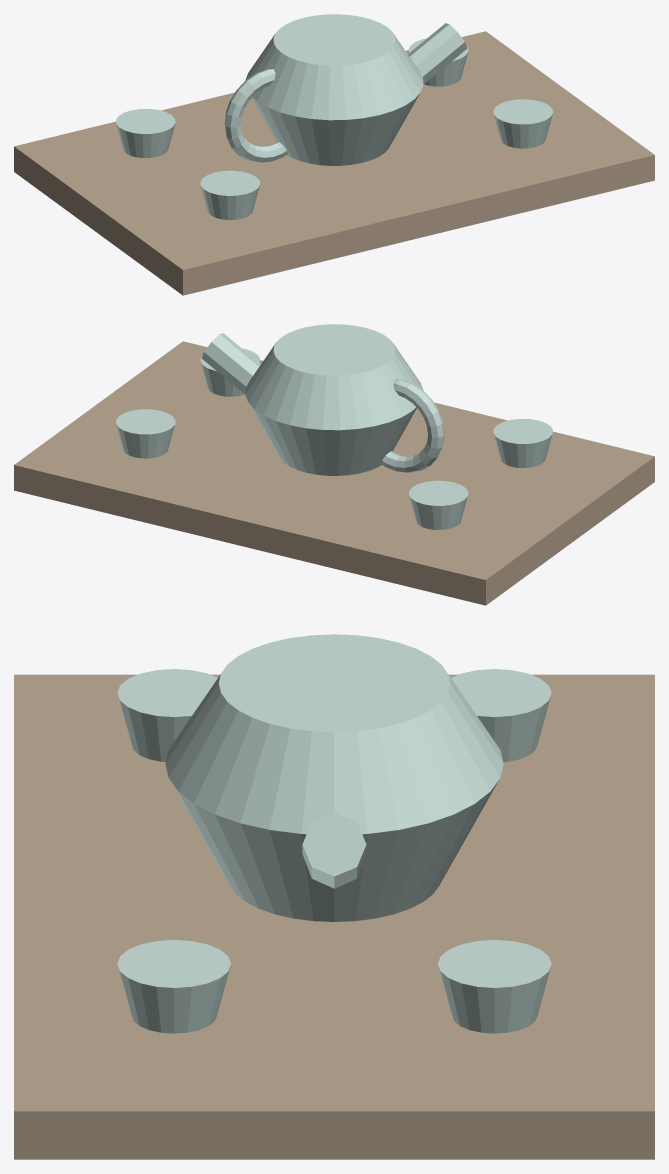
Rendered from prop_celadon_tea_set.glb.
The picture shows the model from 3 angles, top to bottom: view 1: azimuth 30°, elevation 25°; view 2: azimuth 150°, elevation 25°; view 3: azimuth 270°, elevation 25°; orthographic projection. The views are drawn at different scales.
Visible parts, largest first — view 1: prop_celadon_tea_set/tea_tray_base_00000, prop_celadon_tea_set/celadon_teapot_body_00001, prop_celadon_tea_set/celadon_cup_00005, prop_celadon_tea_set/celadon_cup_00004, prop_celadon_tea_set/celadon_cup_00006, prop_celadon_tea_set/celadon_teapot_handle_00003, prop_celadon_tea_set/celadon_teapot_spout_00002, prop_celadon_tea_set/celadon_cup_00007; view 2: prop_celadon_tea_set/tea_tray_base_00000, prop_celadon_tea_set/celadon_teapot_body_00001, prop_celadon_tea_set/celadon_cup_00007, prop_celadon_tea_set/celadon_cup_00006, prop_celadon_tea_set/celadon_cup_00004, prop_celadon_tea_set/celadon_teapot_handle_00003, prop_celadon_tea_set/celadon_teapot_spout_00002, prop_celadon_tea_set/celadon_cup_00005; view 3: prop_celadon_tea_set/tea_tray_base_00000, prop_celadon_tea_set/celadon_teapot_body_00001, prop_celadon_tea_set/celadon_cup_00005, prop_celadon_tea_set/celadon_cup_00007, prop_celadon_tea_set/celadon_cup_00004, prop_celadon_tea_set/celadon_cup_00006, prop_celadon_tea_set/celadon_teapot_spout_00002.
Boxes of the visible parts, <box> form: prop_celadon_tea_set/tea_tray_base_00000: <box>14,31,654,295</box>; prop_celadon_tea_set/celadon_teapot_body_00001: <box>245,14,423,165</box>; prop_celadon_tea_set/celadon_cup_00005: <box>493,99,552,148</box>; prop_celadon_tea_set/celadon_cup_00004: <box>200,170,260,219</box>; prop_celadon_tea_set/celadon_cup_00006: <box>116,108,175,157</box>; prop_celadon_tea_set/celadon_teapot_handle_00003: <box>224,69,287,162</box>; prop_celadon_tea_set/celadon_teapot_spout_00002: <box>408,23,467,84</box>; prop_celadon_tea_set/celadon_cup_00007: <box>409,38,468,86</box>; prop_celadon_tea_set/tea_tray_base_00000: <box>14,341,654,605</box>; prop_celadon_tea_set/celadon_teapot_body_00001: <box>245,324,423,475</box>; prop_celadon_tea_set/celadon_cup_00007: <box>116,409,175,458</box>; prop_celadon_tea_set/celadon_cup_00006: <box>408,480,468,529</box>; prop_celadon_tea_set/celadon_cup_00004: <box>493,418,552,467</box>; prop_celadon_tea_set/celadon_teapot_handle_00003: <box>381,379,444,472</box>; prop_celadon_tea_set/celadon_teapot_spout_00002: <box>201,333,260,394</box>; prop_celadon_tea_set/celadon_cup_00005: <box>200,348,259,396</box>; prop_celadon_tea_set/tea_tray_base_00000: <box>14,674,654,1159</box>; prop_celadon_tea_set/celadon_teapot_body_00001: <box>165,634,503,921</box>; prop_celadon_tea_set/celadon_cup_00005: <box>117,940,230,1033</box>; prop_celadon_tea_set/celadon_cup_00007: <box>438,940,551,1033</box>; prop_celadon_tea_set/celadon_cup_00004: <box>117,669,217,761</box>; prop_celadon_tea_set/celadon_cup_00006: <box>451,669,551,761</box>; prop_celadon_tea_set/celadon_teapot_spout_00002: <box>302,812,366,888</box>.
Bounding box in the file's own units: 0.58 × 0.16 × 0.36.
